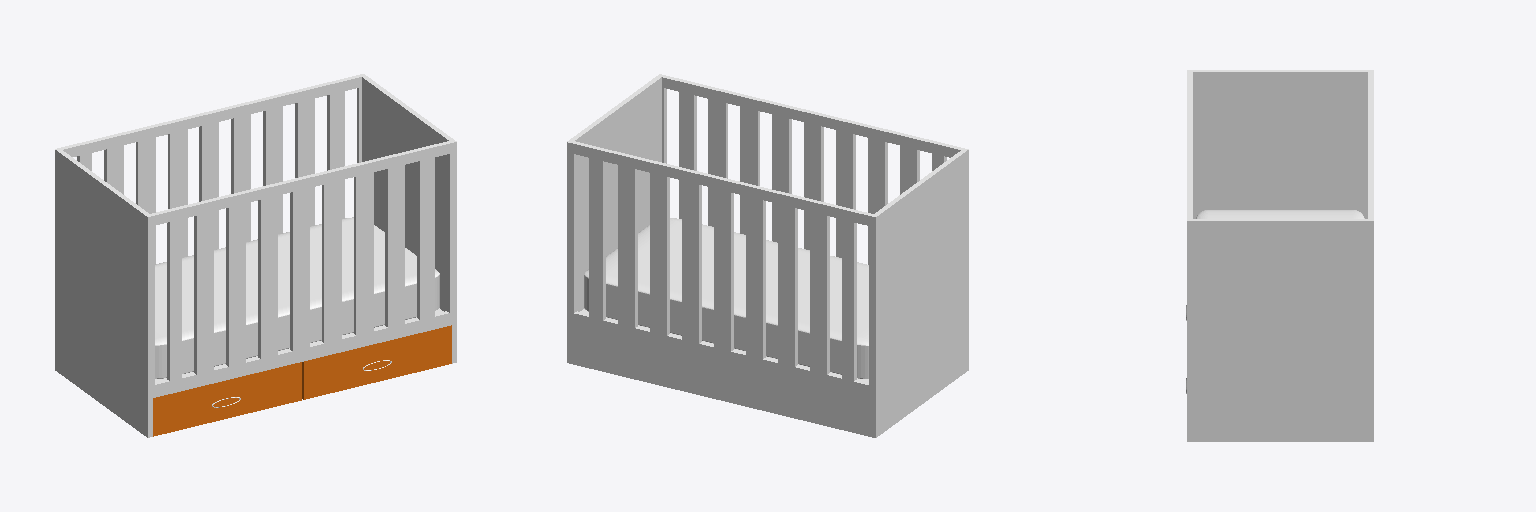
File: Cots_FritidsGreen.obj
The picture shows the model from 3 angles: view 1: azimuth 30°, elevation 25°; view 2: azimuth 150°, elevation 25°; view 3: azimuth 270°, elevation 25°; orthographic projection.
Visible parts, largest first — view 1: obj_0; view 2: obj_0; view 3: obj_0.
Boxes of the visible parts, <box> form: obj_0: <box>55,74,456,437</box>; obj_0: <box>567,74,968,437</box>; obj_0: <box>1186,70,1373,441</box>.
Bounding box in the file's own units: 126 × 86 × 66.